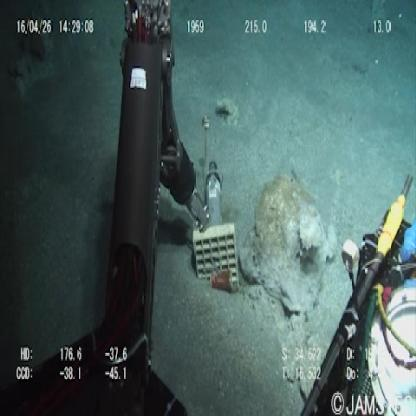Rov: (90, 1, 213, 387), (297, 169, 416, 414), (189, 108, 243, 300)
